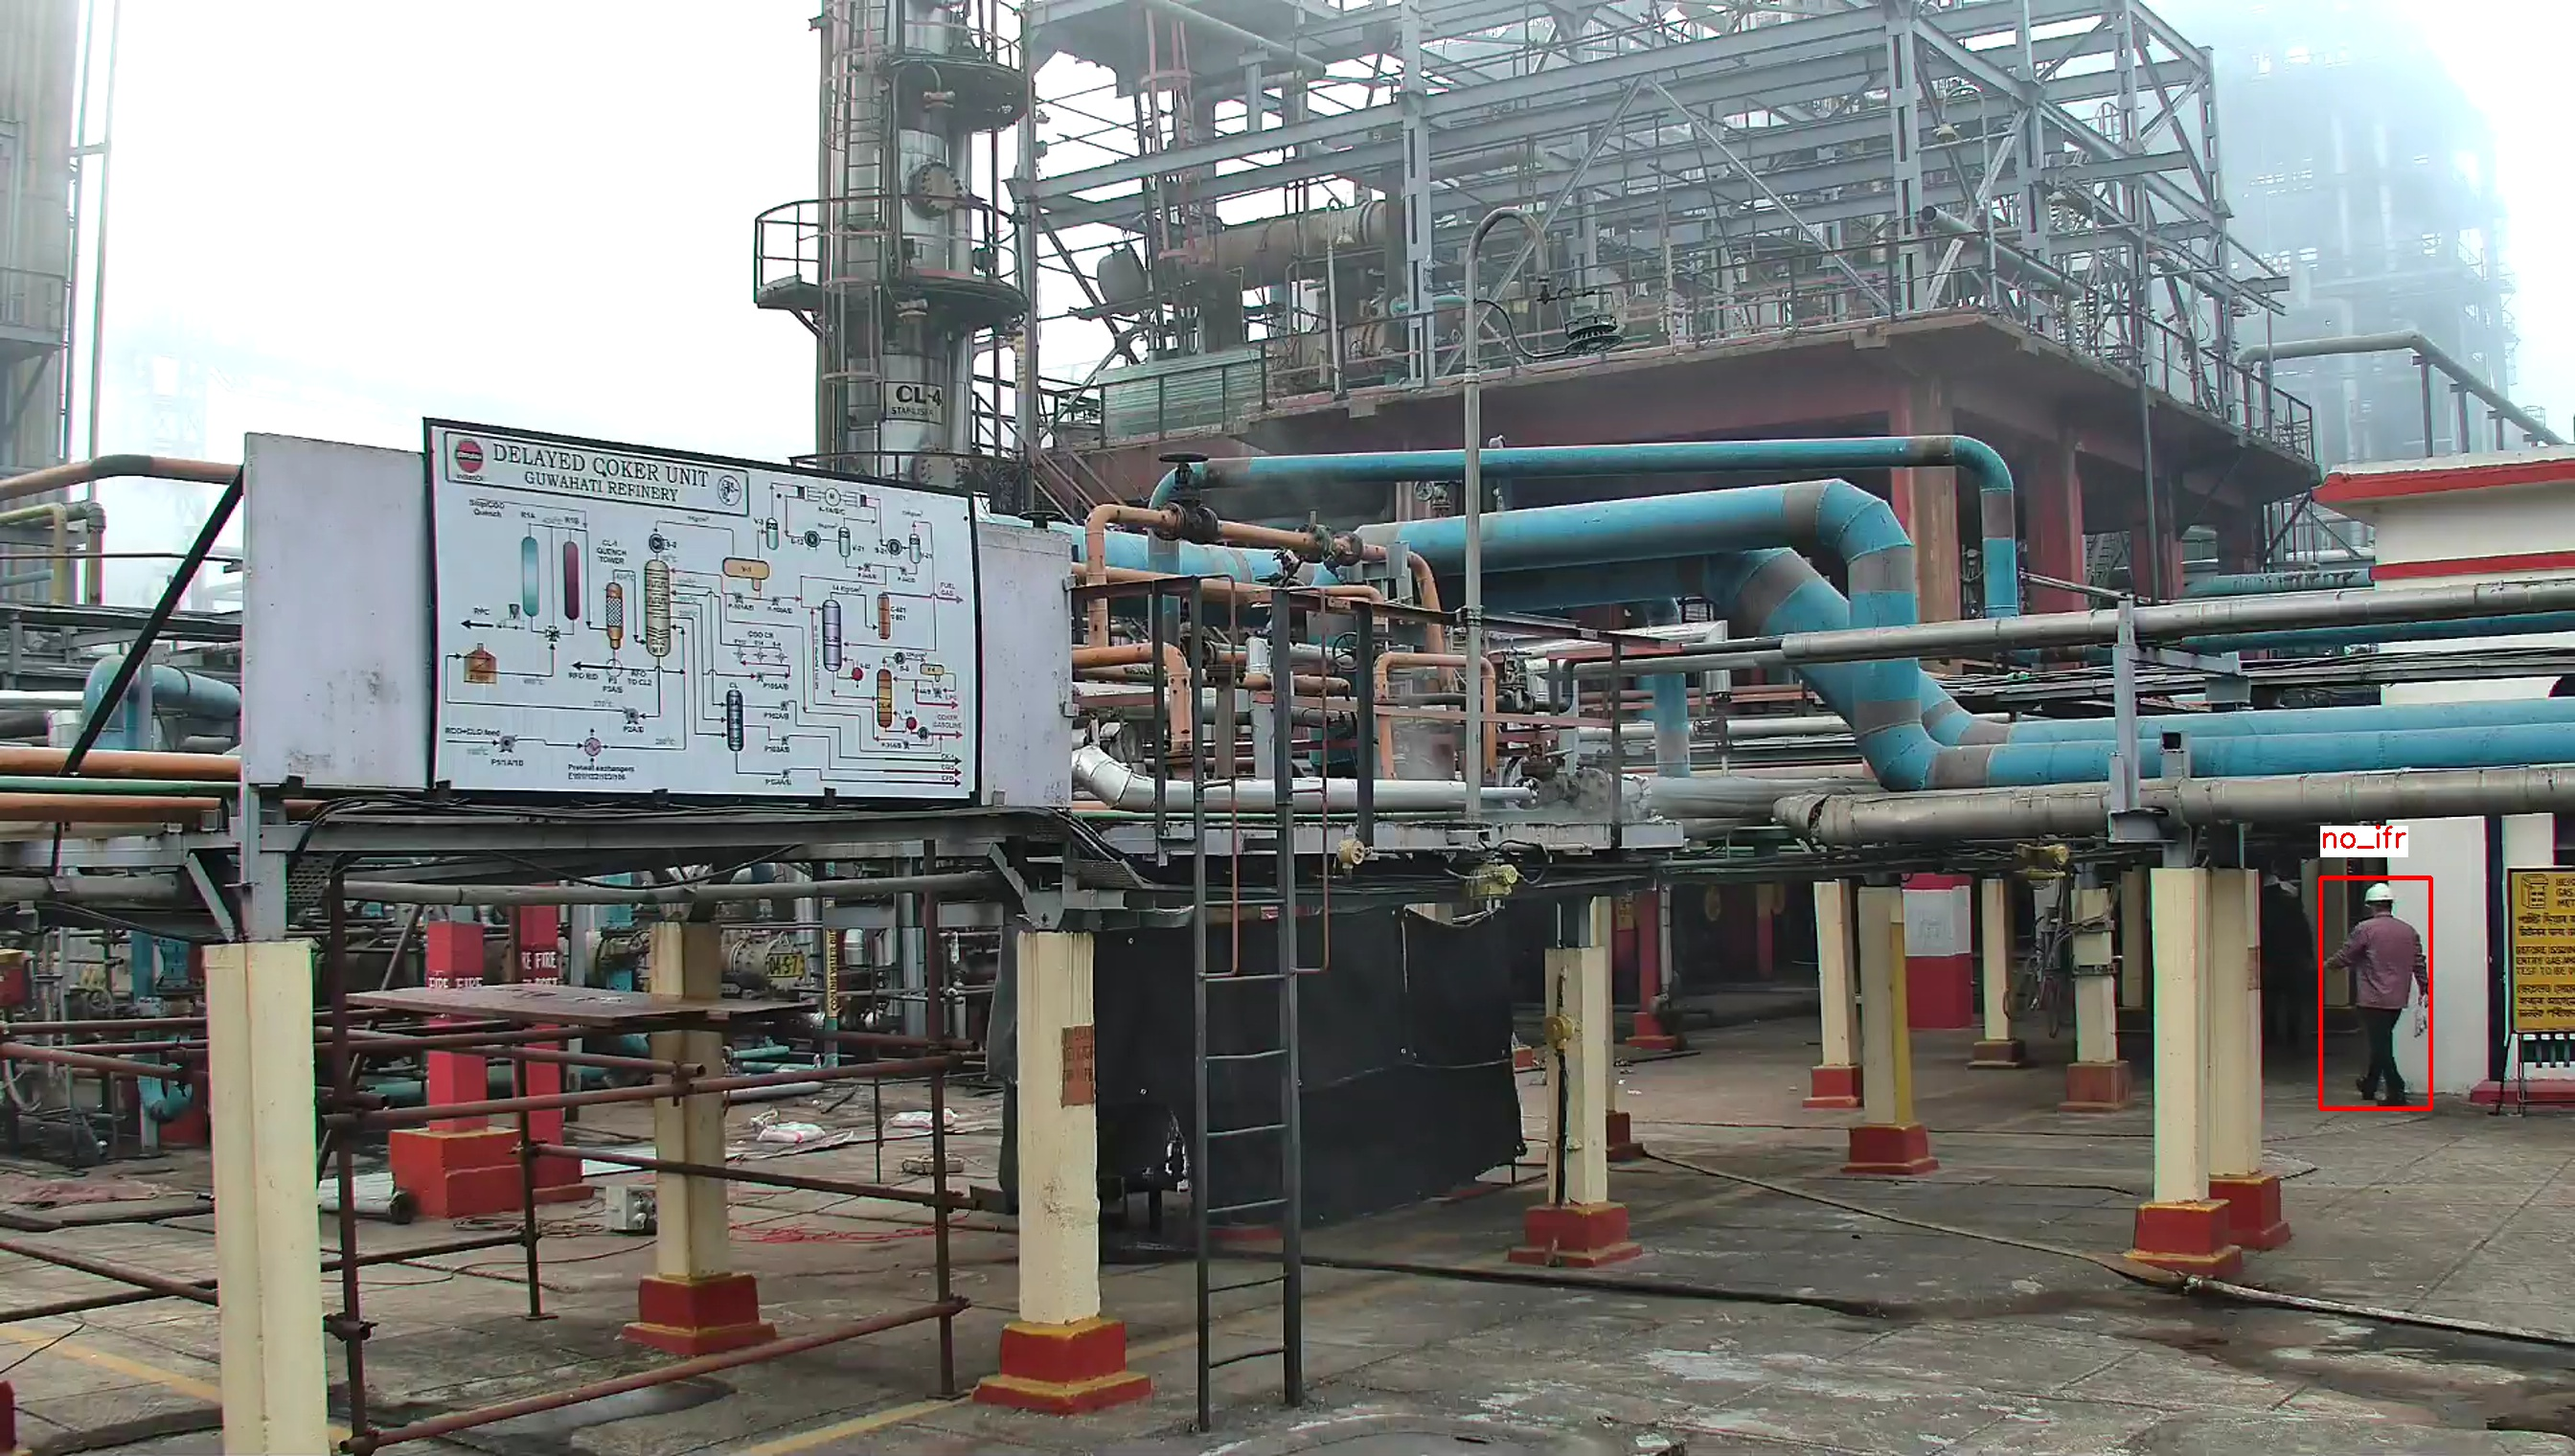Helmets: (2361, 879, 2400, 904)
